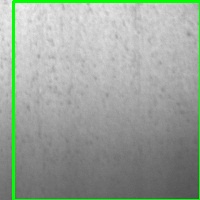pitted_surface: (13, 1, 200, 200)
